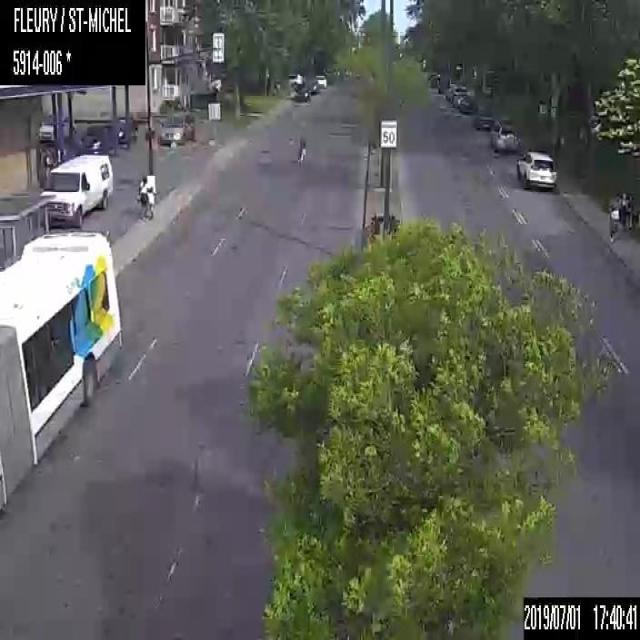bus: (0, 226, 125, 514)
pedestrian: (606, 194, 620, 243), (139, 176, 154, 221), (624, 187, 636, 236), (298, 130, 306, 166)
vehicle: (40, 155, 112, 222), (515, 146, 557, 190), (154, 109, 197, 150), (74, 121, 116, 154), (37, 108, 75, 142), (488, 114, 520, 154), (112, 114, 136, 148), (471, 108, 494, 130), (457, 94, 477, 115), (294, 81, 312, 103), (314, 72, 328, 89)
